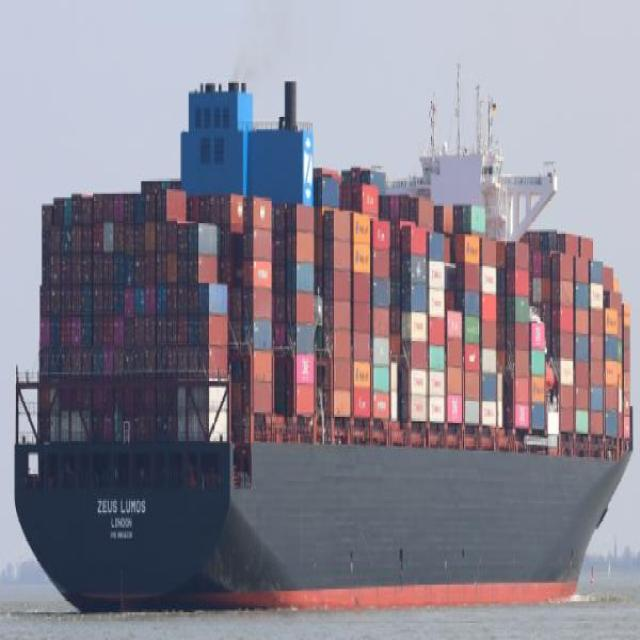Cargo: (13, 73, 632, 617)
